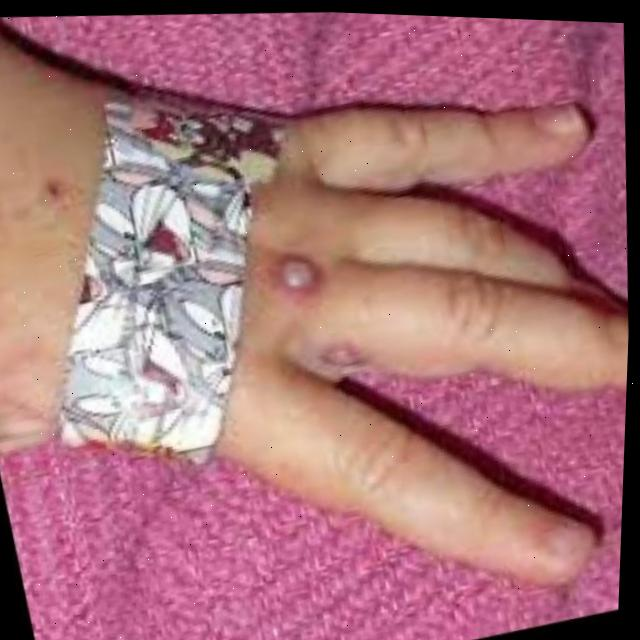Eczema: (269, 258, 328, 295), (330, 337, 368, 374)
